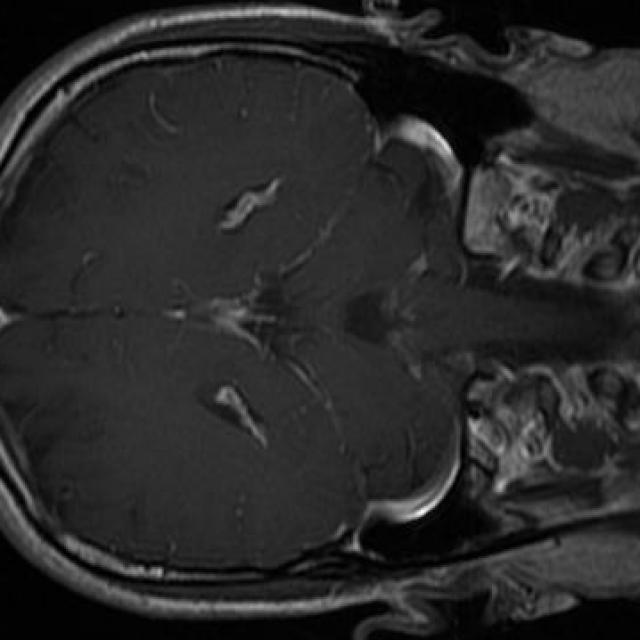glioma: (344, 289, 401, 344)
